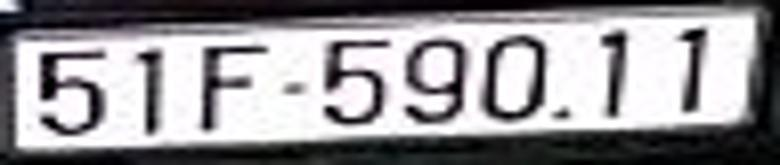-: (279, 79, 313, 104)
.: (549, 102, 575, 125)
0: (481, 32, 547, 122)
1: (601, 27, 637, 128), (676, 22, 710, 116), (131, 43, 163, 137)
5: (33, 44, 113, 136), (322, 37, 390, 137)
9: (401, 35, 468, 126)
F: (193, 40, 270, 132)
